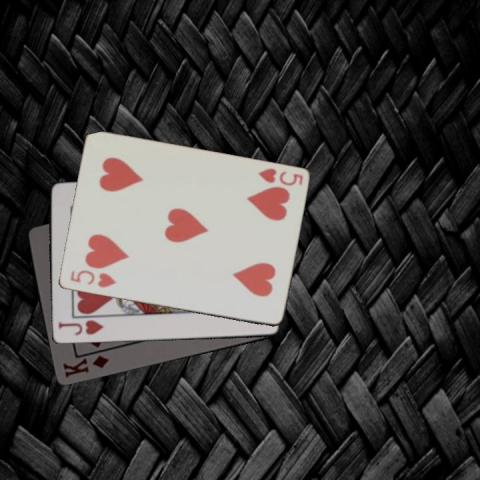5h: (67, 268, 117, 290), (255, 166, 304, 188)
Jh: (55, 317, 105, 337)
Kd: (59, 353, 111, 380)
